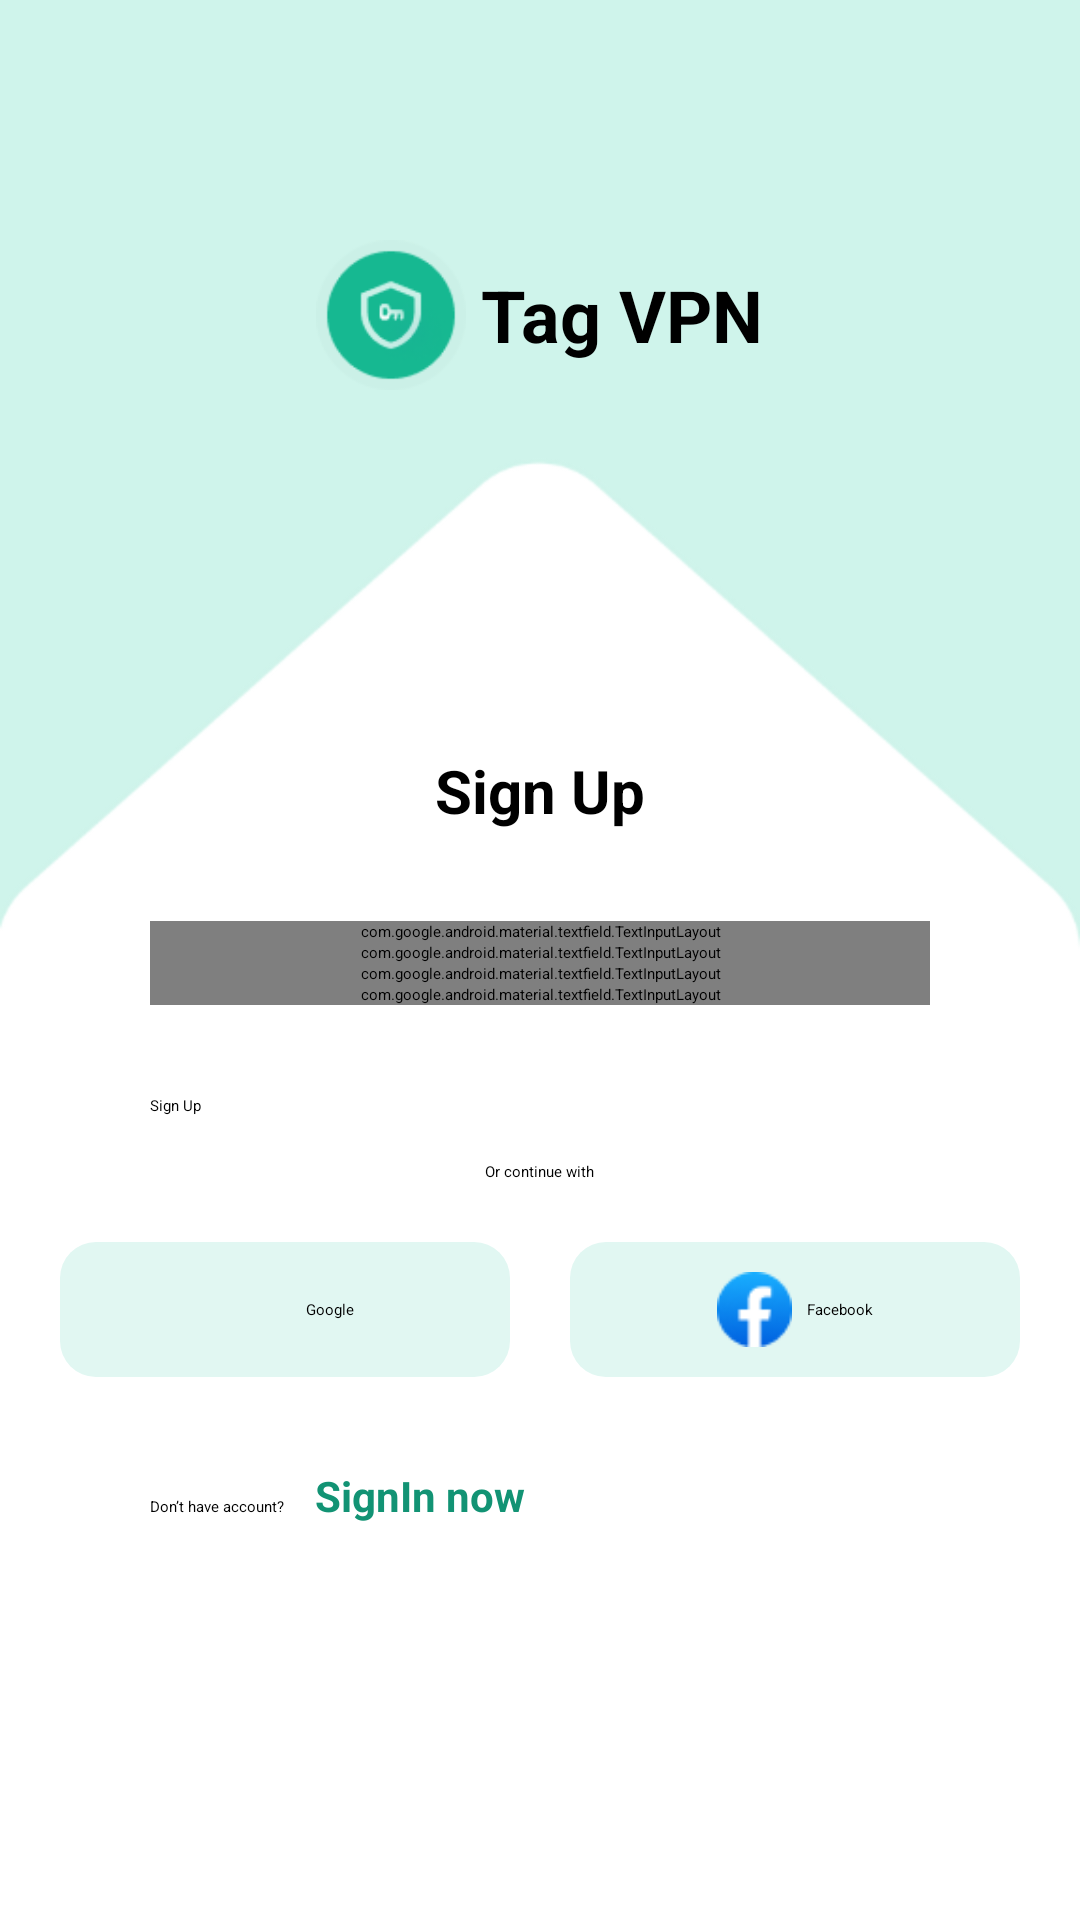

Icons on this 1080 × 1920 Android screen, each with the point to tap as (x=x, y=y):
logv: (x=391, y=315)
